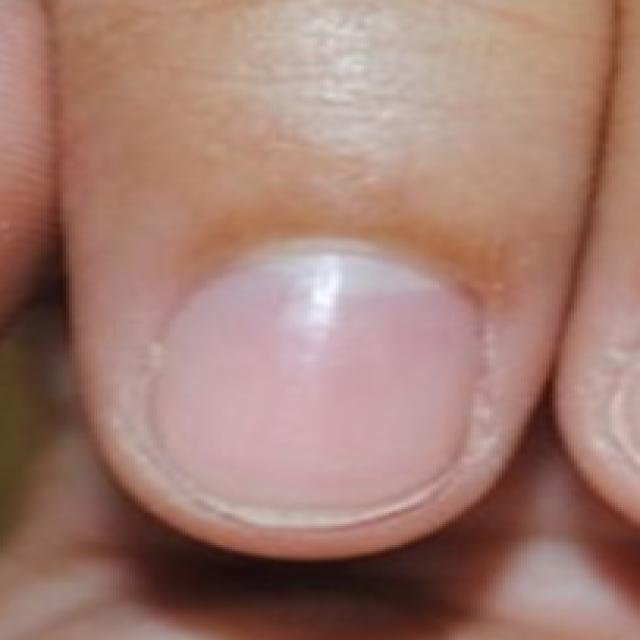Nail: (150, 241, 479, 517)
